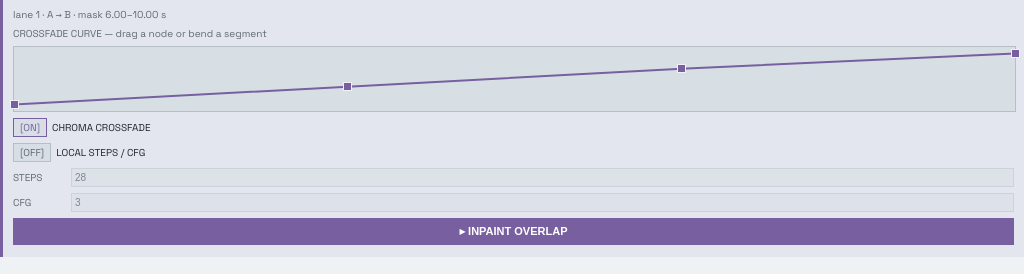
OverlapInpaint.svelte (spec §4.6.1) › CHROMA CROSSFADE is on by default and toggling it writes through setOverlapParams
Click the button with test id "overlap-chroma-xfade". click: (30, 128)
box: [13,118,47,137]
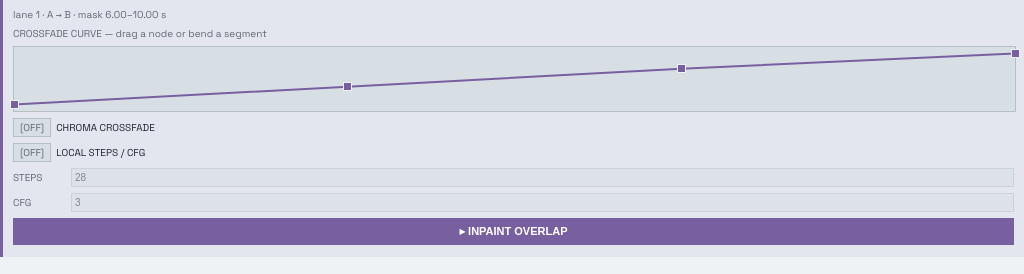
Expected: the button with test id "overlap-chroma-xfade" shows "OFF", [13,118,51,137]
